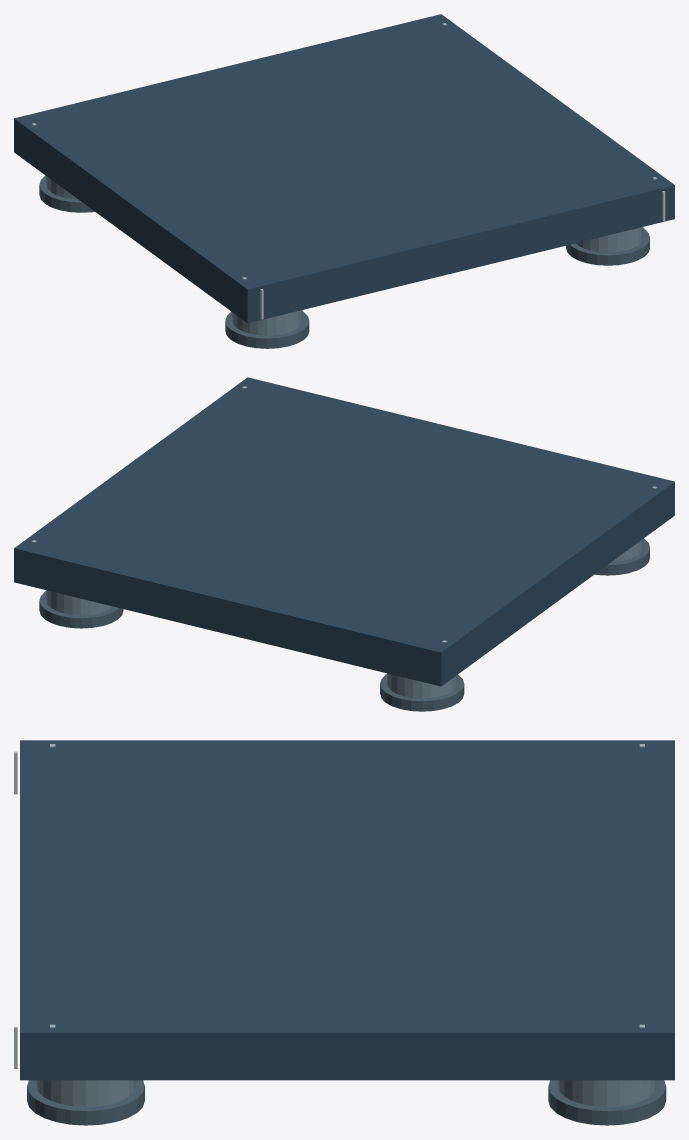
The model's file is 36_L74_ActiveVibrationIsolationPlatform.glb.
3 views of the same model, one above another, from view 1: azimuth 30°, elevation 25°; view 2: azimuth 150°, elevation 25°; view 3: azimuth 270°, elevation 25° (orthographic). The views are drawn at different scales.
Parts seen in each view (by area): view 1: ActiveVibrationIsolationPlatform_Node_0000, ActiveVibrationIsolationPlatform_Node_0016, ActiveVibrationIsolationPlatform_Node_0026, ActiveVibrationIsolationPlatform_Node_0012, ActiveVibrationIsolationPlatform_Node_0022, ActiveVibrationIsolationPlatform_Node_0011; view 2: ActiveVibrationIsolationPlatform_Node_0000, ActiveVibrationIsolationPlatform_Node_0011, ActiveVibrationIsolationPlatform_Node_0021, ActiveVibrationIsolationPlatform_Node_0007, ActiveVibrationIsolationPlatform_Node_0017, ActiveVibrationIsolationPlatform_Node_0016; view 3: ActiveVibrationIsolationPlatform_Node_0000, ActiveVibrationIsolationPlatform_Node_0021, ActiveVibrationIsolationPlatform_Node_0026, ActiveVibrationIsolationPlatform_Node_0022, ActiveVibrationIsolationPlatform_Node_0017.
Part boxes in pixels (x1,y1,x2,y2): ActiveVibrationIsolationPlatform_Node_0000: (14,14,674,323); ActiveVibrationIsolationPlatform_Node_0016: (225,311,309,348); ActiveVibrationIsolationPlatform_Node_0026: (566,228,649,265); ActiveVibrationIsolationPlatform_Node_0012: (232,310,302,335); ActiveVibrationIsolationPlatform_Node_0022: (576,227,643,252); ActiveVibrationIsolationPlatform_Node_0011: (39,175,94,212); ActiveVibrationIsolationPlatform_Node_0000: (14,377,674,686); ActiveVibrationIsolationPlatform_Node_0011: (380,674,464,711); ActiveVibrationIsolationPlatform_Node_0021: (39,591,123,628); ActiveVibrationIsolationPlatform_Node_0007: (387,673,457,698); ActiveVibrationIsolationPlatform_Node_0017: (46,590,112,615); ActiveVibrationIsolationPlatform_Node_0016: (595,538,649,575); ActiveVibrationIsolationPlatform_Node_0000: (20,740,674,1080); ActiveVibrationIsolationPlatform_Node_0021: (548,1080,666,1125); ActiveVibrationIsolationPlatform_Node_0026: (27,1080,144,1125); ActiveVibrationIsolationPlatform_Node_0022: (36,1080,135,1106); ActiveVibrationIsolationPlatform_Node_0017: (558,1080,656,1106).
Bounding box in the file's own units: 4.34 × 0.6822 × 4.15.
